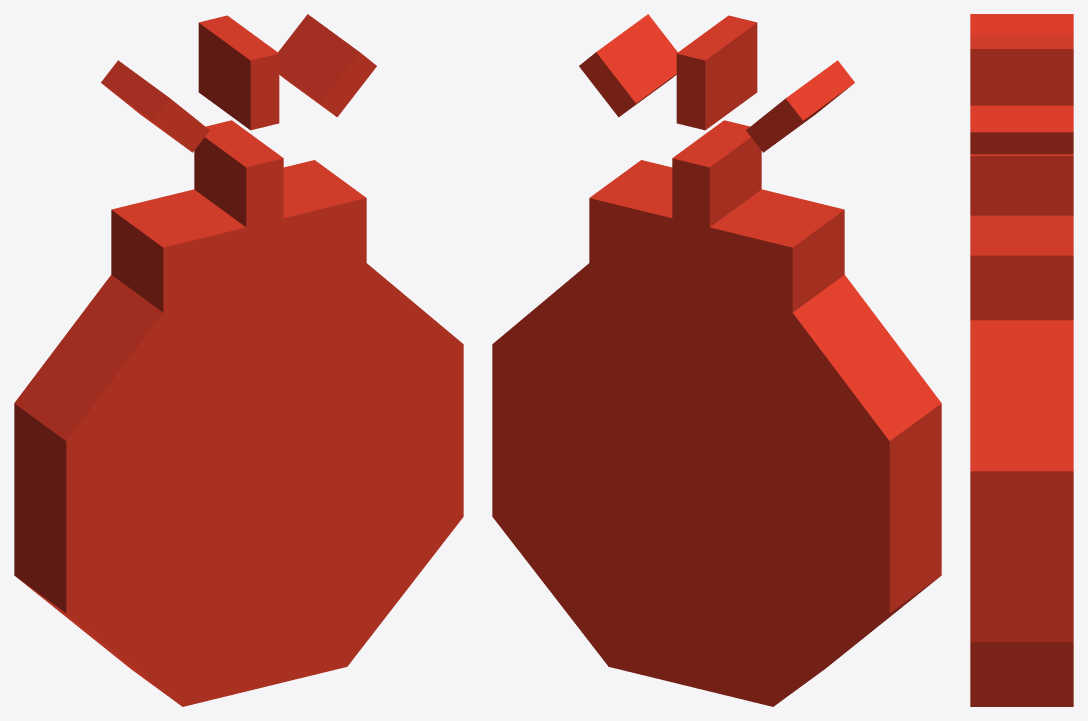
The model's file is Icon_Bomb.fbx.
3 renders of one model, left to right at view 1: azimuth 30°, elevation 25°; view 2: azimuth 150°, elevation 25°; view 3: azimuth 270°, elevation 25°, orthographic.
Parts seen in each view (by area): view 1: Icon_Bomb; view 2: Icon_Bomb; view 3: Icon_Bomb.
Part boxes in pixels (x1=…): Icon_Bomb: x1=14, y1=14, x2=463, y2=706; Icon_Bomb: x1=492, y1=14, x2=941, y2=706; Icon_Bomb: x1=970, y1=14, x2=1073, y2=706.
Size of the model in its own units: 53.17 by 80.52 by 12.06.
